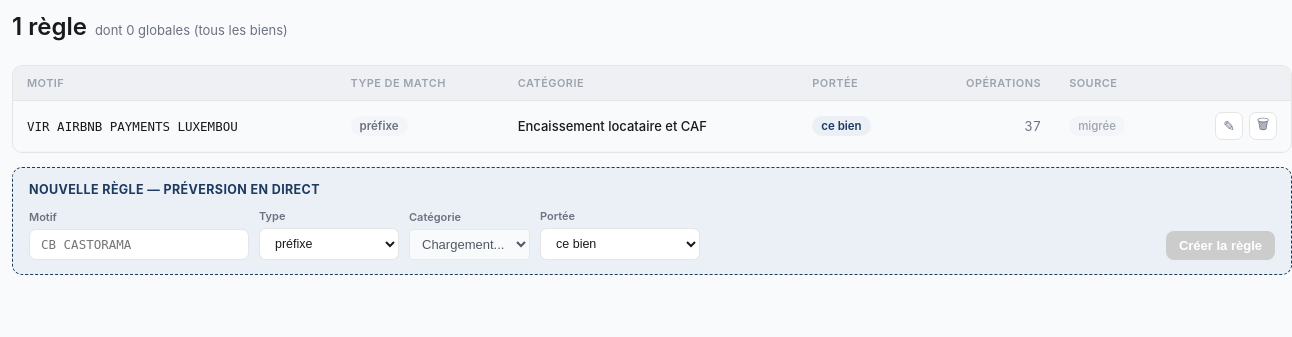
Test: la case Appliquer aux existantes est désactivée (bientôt disponible)
expect the text "VIR AIRBNB PAYMENTS LUXEMBOU" is shown: met, box x1=13 y1=100 x2=337 y2=152
Note: Déclenche la préversion (motif + catégorie) pour faire apparaître le bloc contenant la case.
Type "CB TEST" into the field with placeholder "CB CASTORAMA". click: (139, 244)
box: x1=29 y1=229 x2=249 y2=260
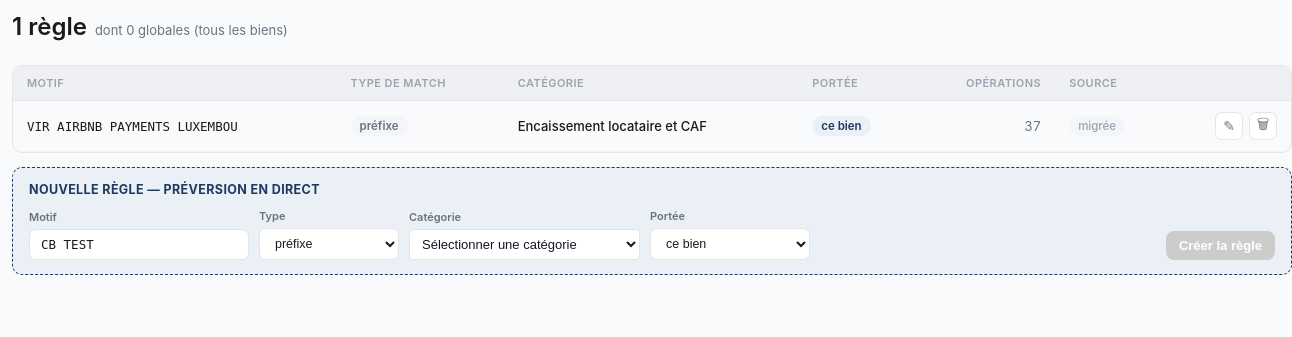
expect the 2nd dropdown is enabled: met
Select "Encaissement locataire et CAF" in the 2nd dropdown. click: (524, 244)
box: x1=409 y1=229 x2=640 y2=260
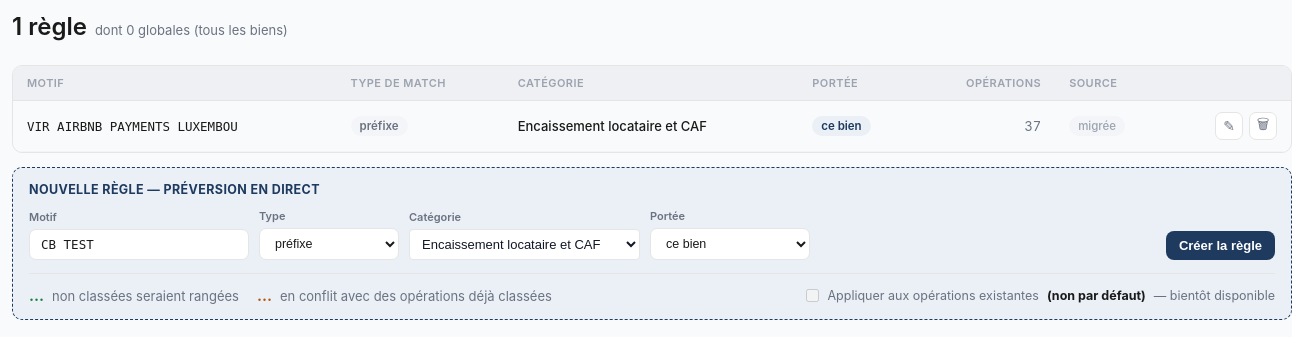
expect the checkbox is disabled: met, box x1=806 y1=289 x2=820 y2=302
